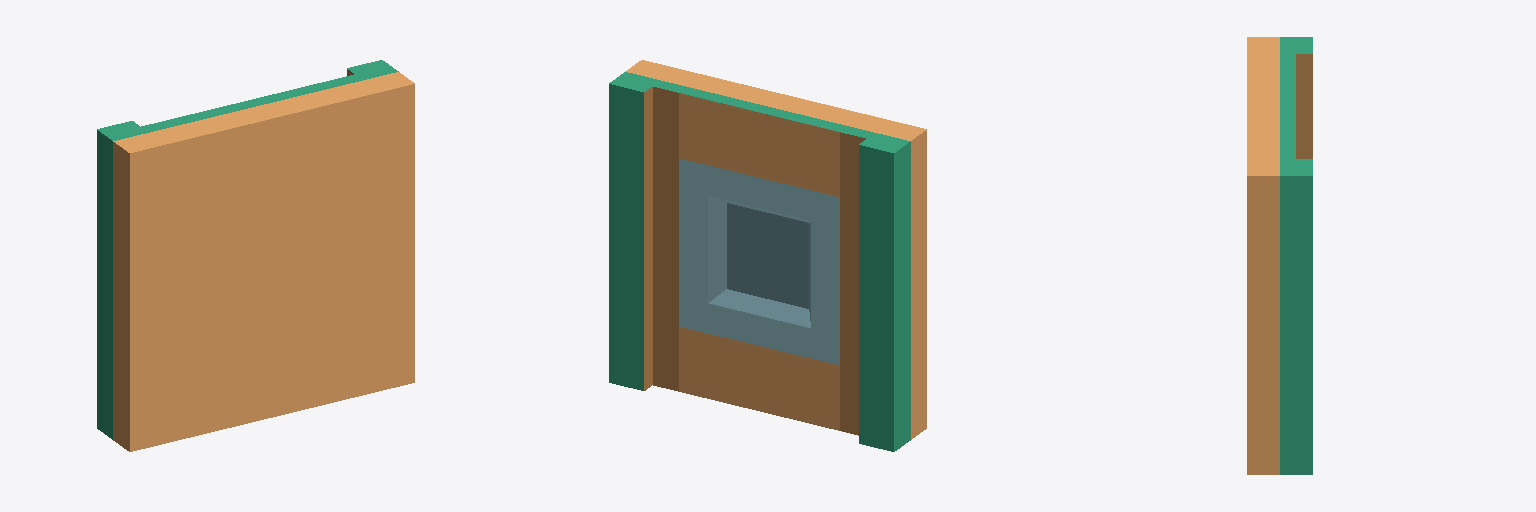
File: tile_spawn.obj
3 views of the same model, side by side, from view 1: azimuth 30°, elevation 25°; view 2: azimuth 150°, elevation 25°; view 3: azimuth 270°, elevation 25° (orthographic).
Visible parts, largest first — view 1: tile_spawn; view 2: tile_spawn; view 3: tile_spawn.
Part boxes in pixels (x1,y1,x2,y2): tile_spawn: (97, 60, 414, 451); tile_spawn: (609, 60, 926, 451); tile_spawn: (1247, 37, 1312, 474).
Bounding box in the file's own units: 1 × 1 × 0.2.